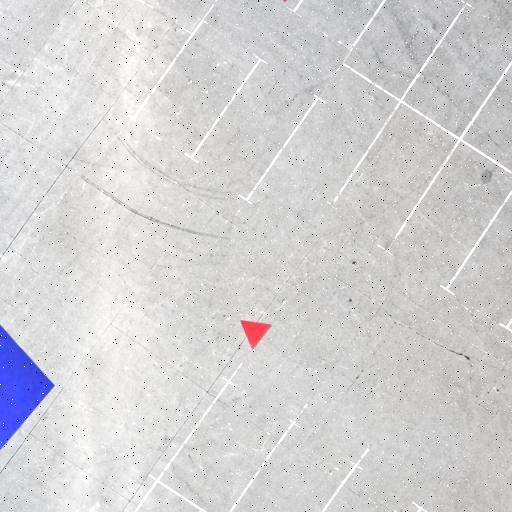BLUE_SQUARE: (0, 318, 55, 454)
